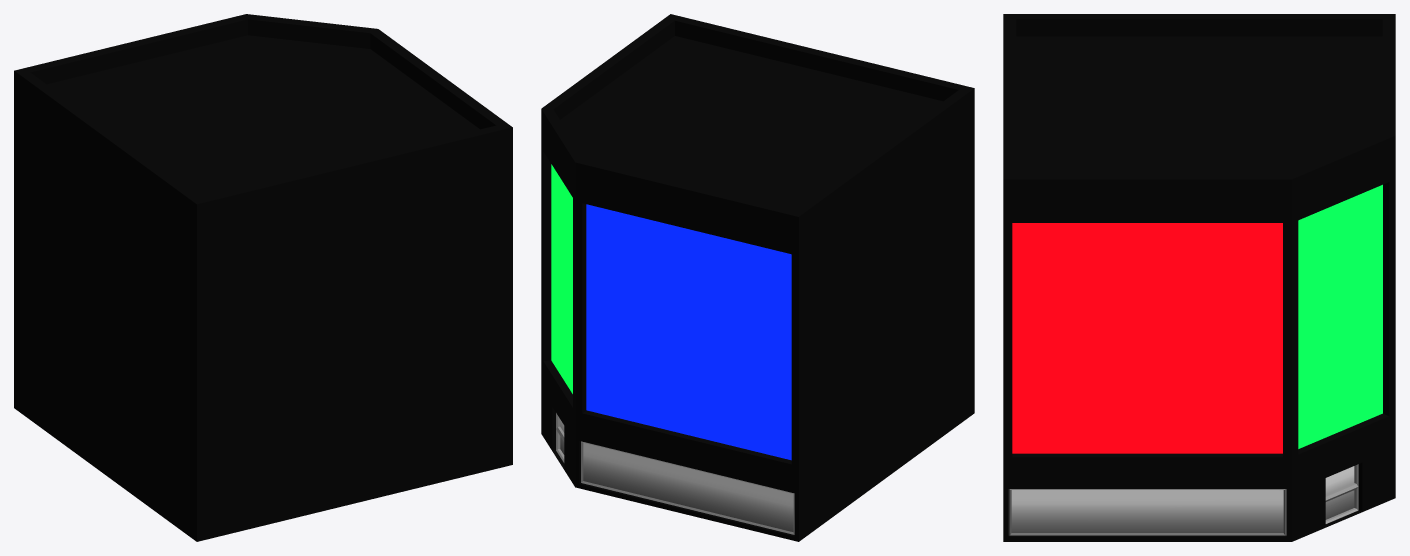
Rendered from PCCaseBuilding1.fbx.
3 views of the same model, side by side, from view 1: azimuth 30°, elevation 25°; view 2: azimuth 150°, elevation 25°; view 3: azimuth 270°, elevation 25° (orthographic). The views are drawn at different scales.
Parts seen in each view (by area): view 1: Plane; view 2: Plane; view 3: Plane.
Part boxes in pixels (box(x1,y1,x2,y2)): Plane: box(14, 14, 512, 541); Plane: box(541, 14, 974, 541); Plane: box(1003, 14, 1395, 541).
Bounding box in the file's own units: 10.74 × 10.76 × 10.97.
Materials: 7 (1 with a texture image).
